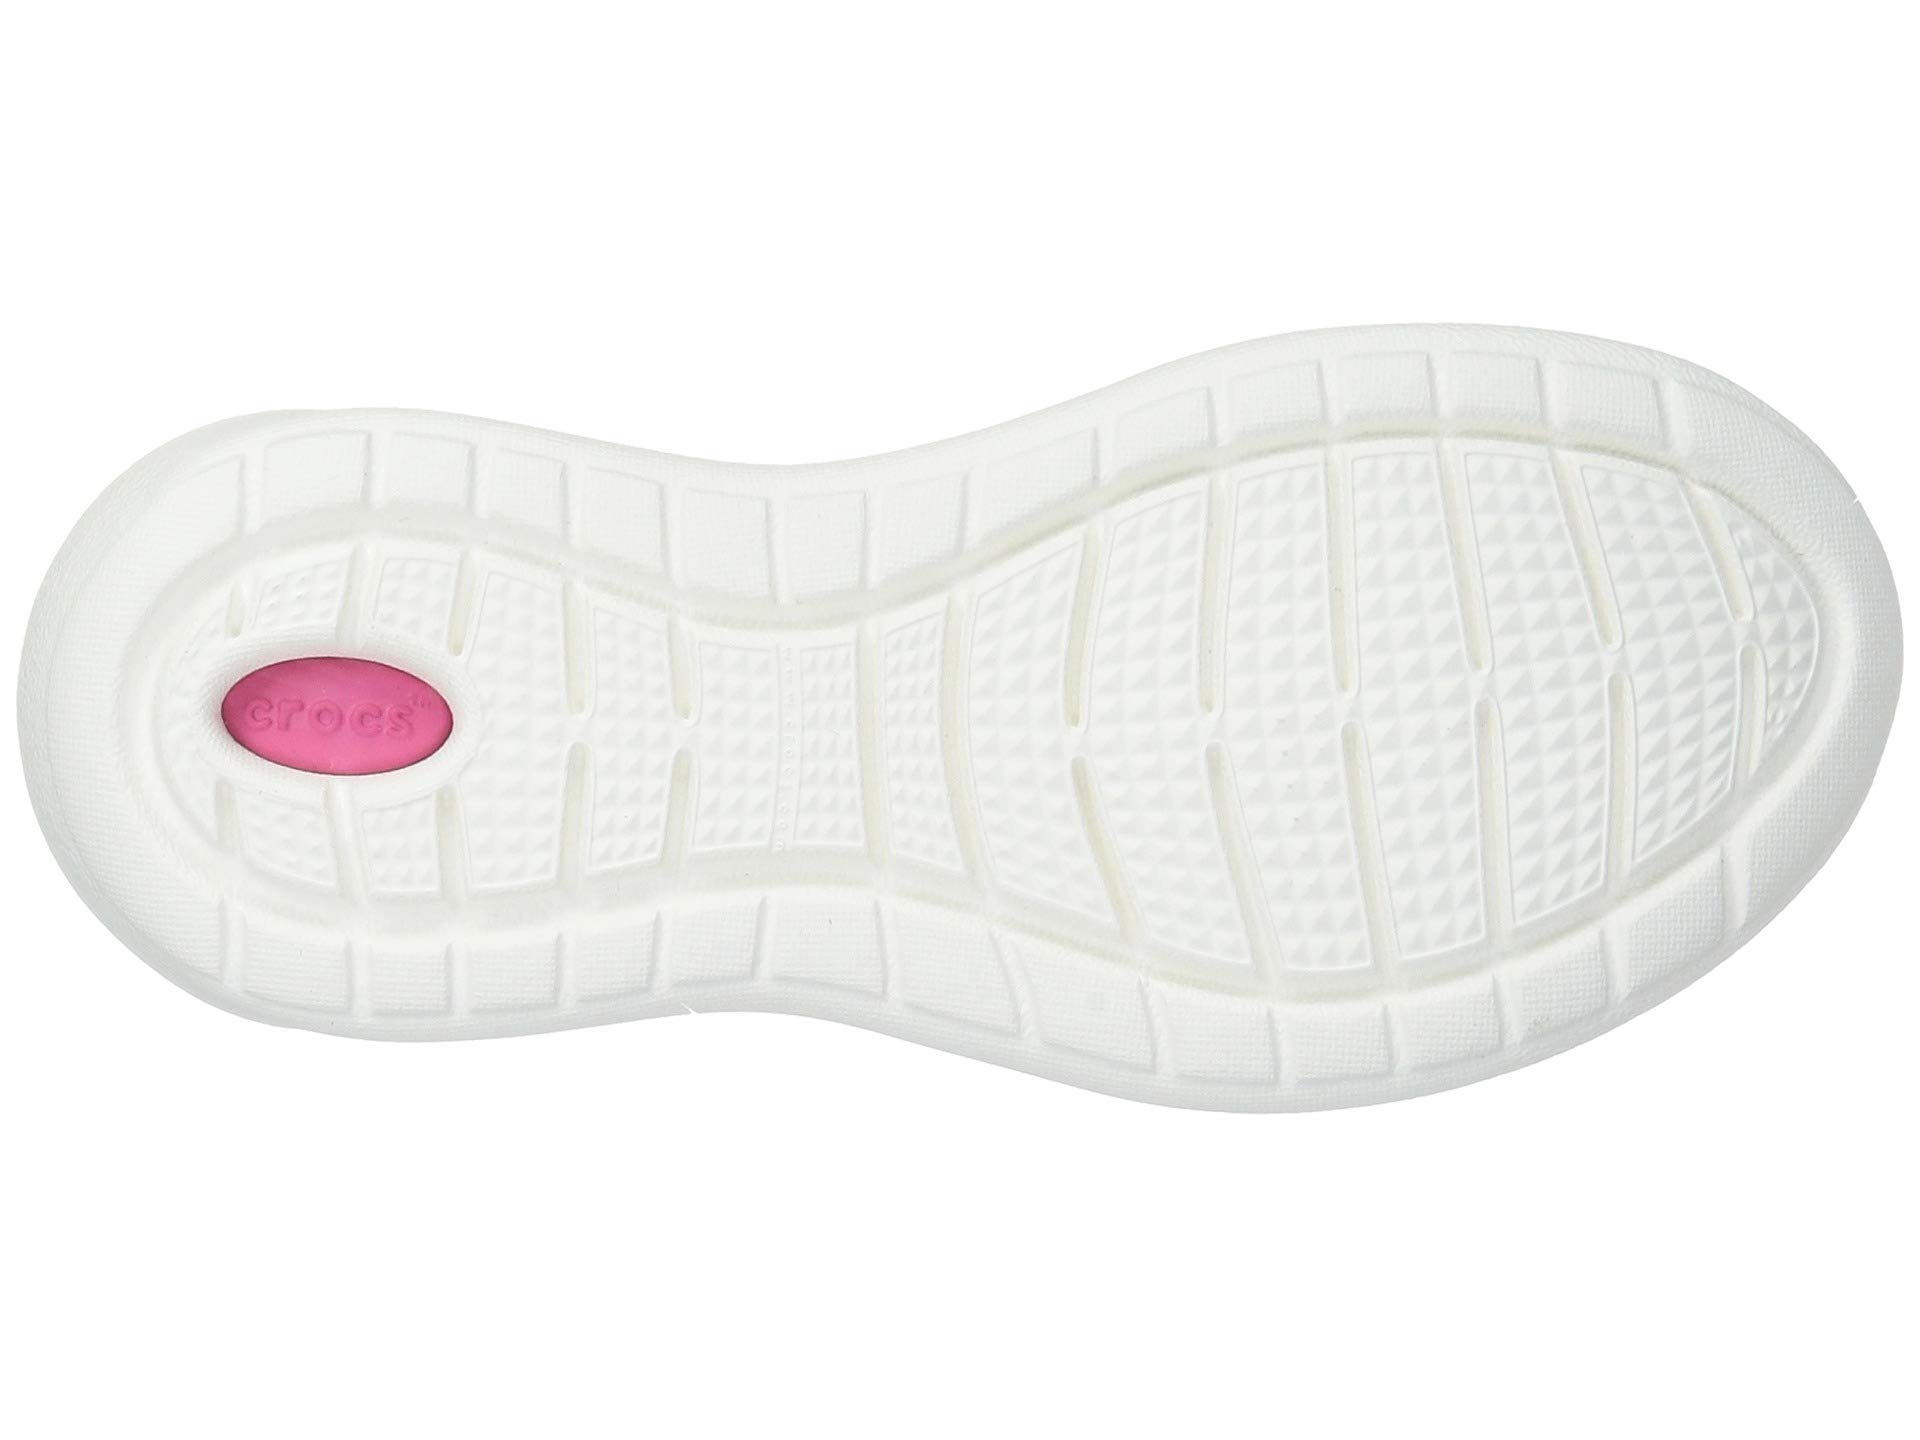circle: (200, 644, 460, 799)
quad: (1107, 466, 1758, 905), (237, 422, 732, 607), (593, 873, 1022, 1044), (972, 510, 1098, 954), (689, 619, 893, 888), (1120, 947, 1510, 1082), (224, 880, 584, 1016), (444, 582, 588, 879), (1225, 346, 1661, 443), (565, 561, 677, 920), (754, 476, 875, 610), (878, 460, 966, 582)
text: (200, 644, 460, 799)
